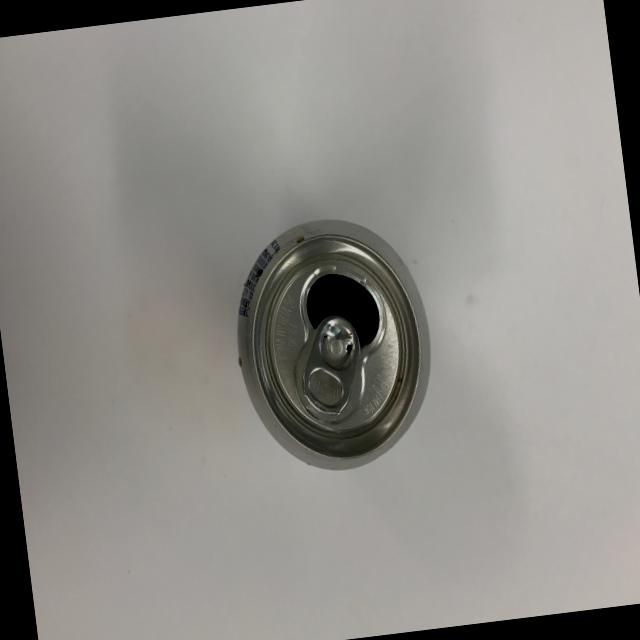Metal: (204, 201, 456, 502)
